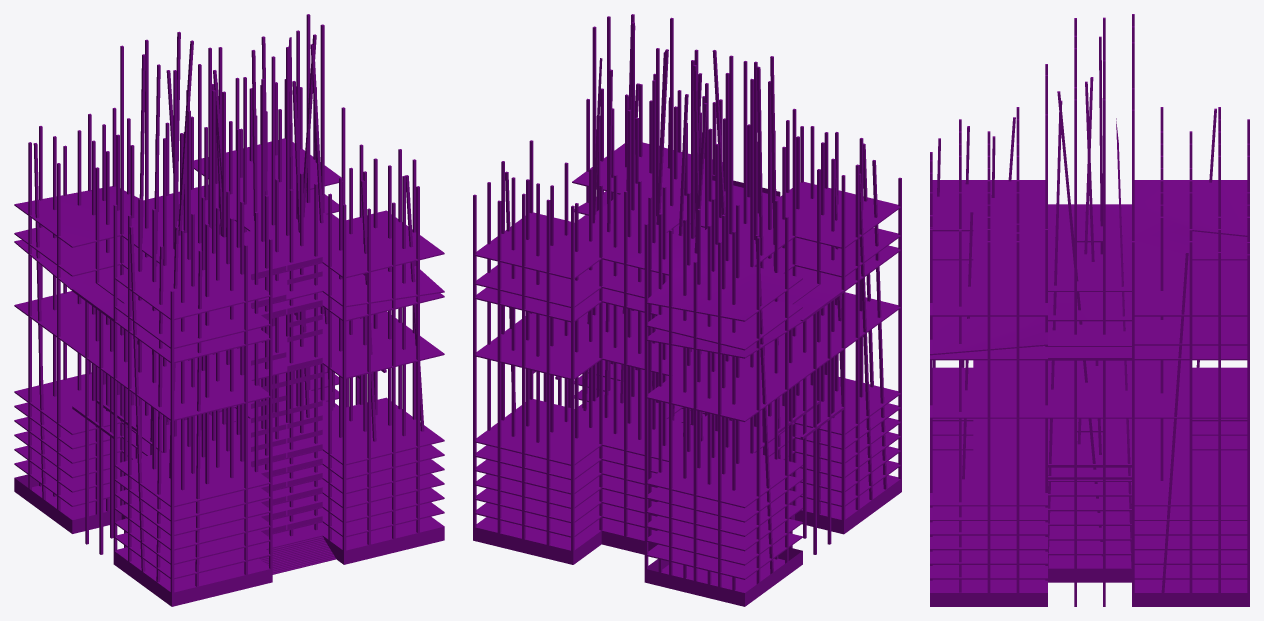
File: Building_02_4.FBX
3 views of the same model, side by side, from view 1: azimuth 30°, elevation 25°; view 2: azimuth 150°, elevation 25°; view 3: azimuth 270°, elevation 25° (orthographic).
Visible parts, largest first — view 1: Building_02_4; view 2: Building_02_4; view 3: Building_02_4.
Boxes of the visible parts, left/top/right/bottom form: Building_02_4: left=14, top=14, right=444, bottom=606; Building_02_4: left=473, top=14, right=901, bottom=606; Building_02_4: left=930, top=14, right=1249, bottom=606.
Bounding box in the file's own units: 89582 × 150269 × 89606.
